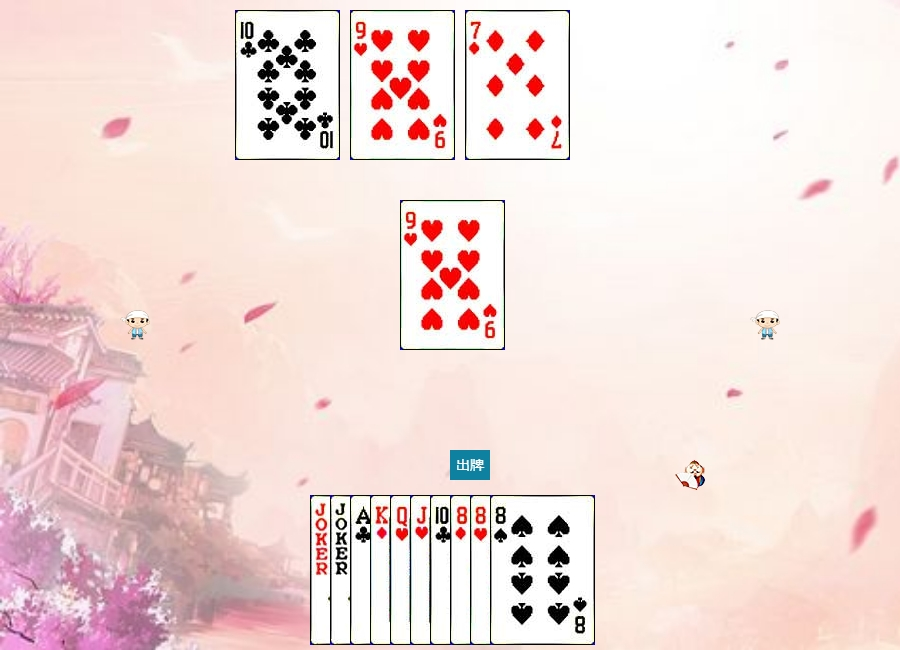10~2: (235, 10, 340, 160), (430, 495, 535, 645)
11~3: (410, 495, 515, 645)
12~3: (390, 495, 495, 645)
13~1: (370, 495, 475, 645)
14~2: (350, 495, 455, 645)
17~3: (330, 495, 435, 645)
18~4: (310, 495, 415, 645)
7~1: (465, 10, 570, 160)
8~1: (450, 495, 555, 645)
8~3: (470, 495, 575, 645)
8~4: (490, 495, 595, 645)
9~3: (350, 10, 455, 160), (400, 200, 505, 350)
